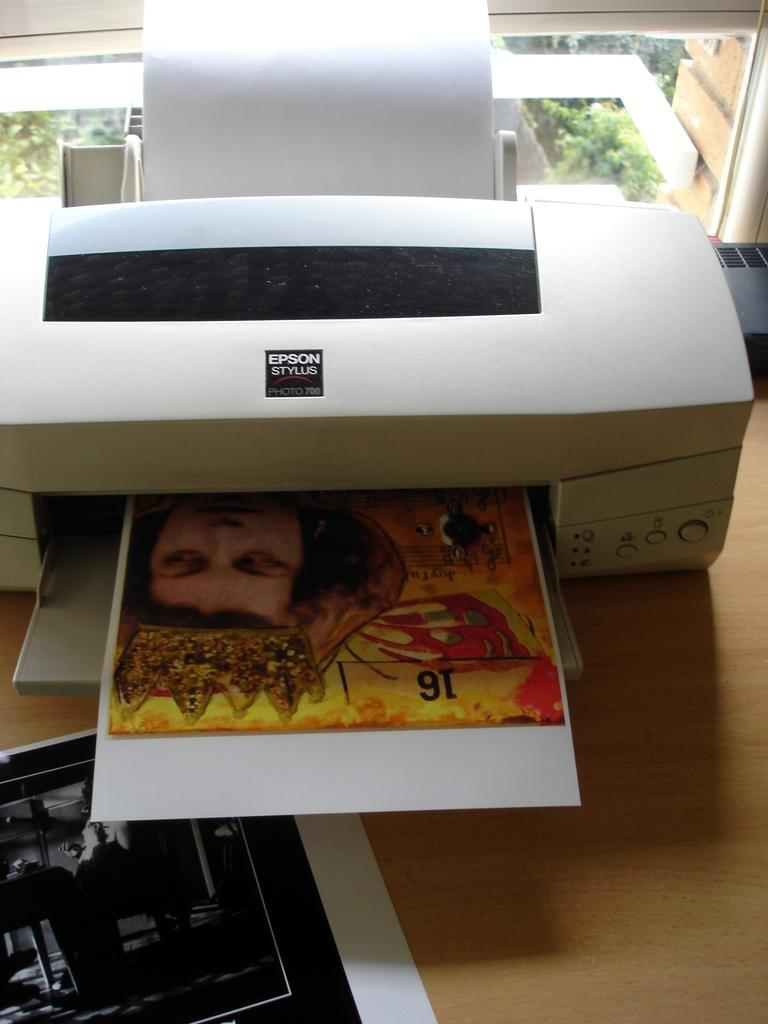Printer: (0, 0, 755, 823)
